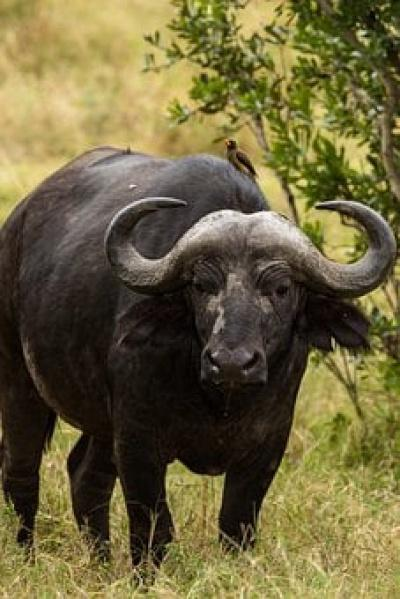buffalo: (0, 150, 397, 585)
